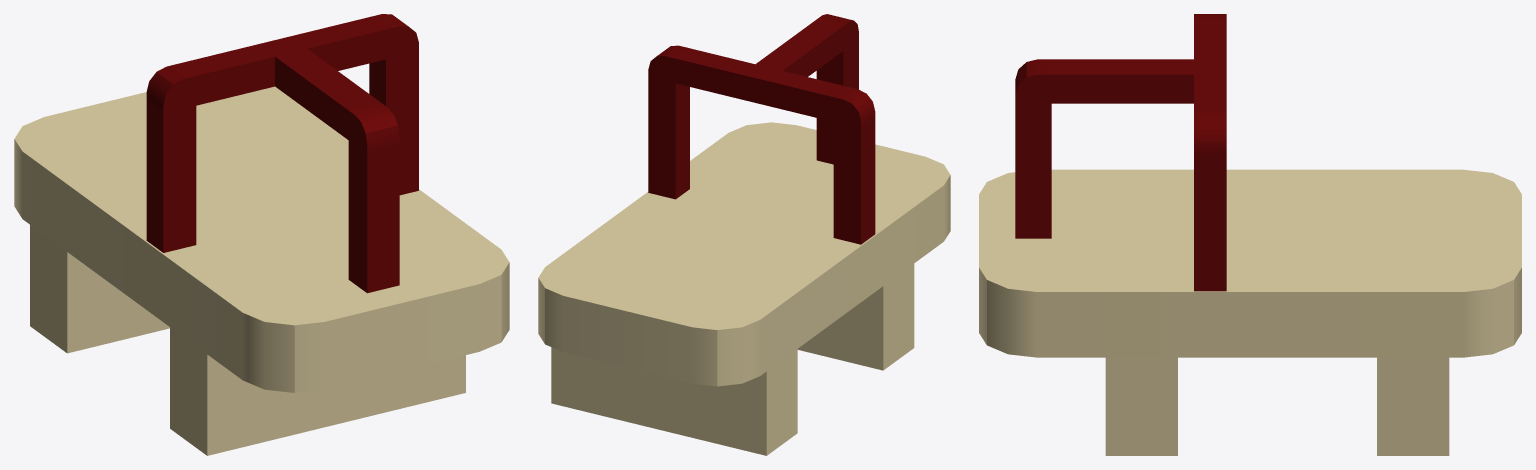
File: Crogs.fbx
3 views of the same model, side by side, from view 1: azimuth 30°, elevation 25°; view 2: azimuth 150°, elevation 25°; view 3: azimuth 270°, elevation 25° (orthographic). The views are drawn at different scales.
Parts seen in each view (by area): view 1: Crogs; view 2: Crogs; view 3: Crogs.
Part boxes in pixels (x1,y1,x2,y2): Crogs: (14,14,509,455); Crogs: (538,14,950,455); Crogs: (979,14,1521,455).
Bounding box in the file's own units: 0.8 × 1 × 1.5.
